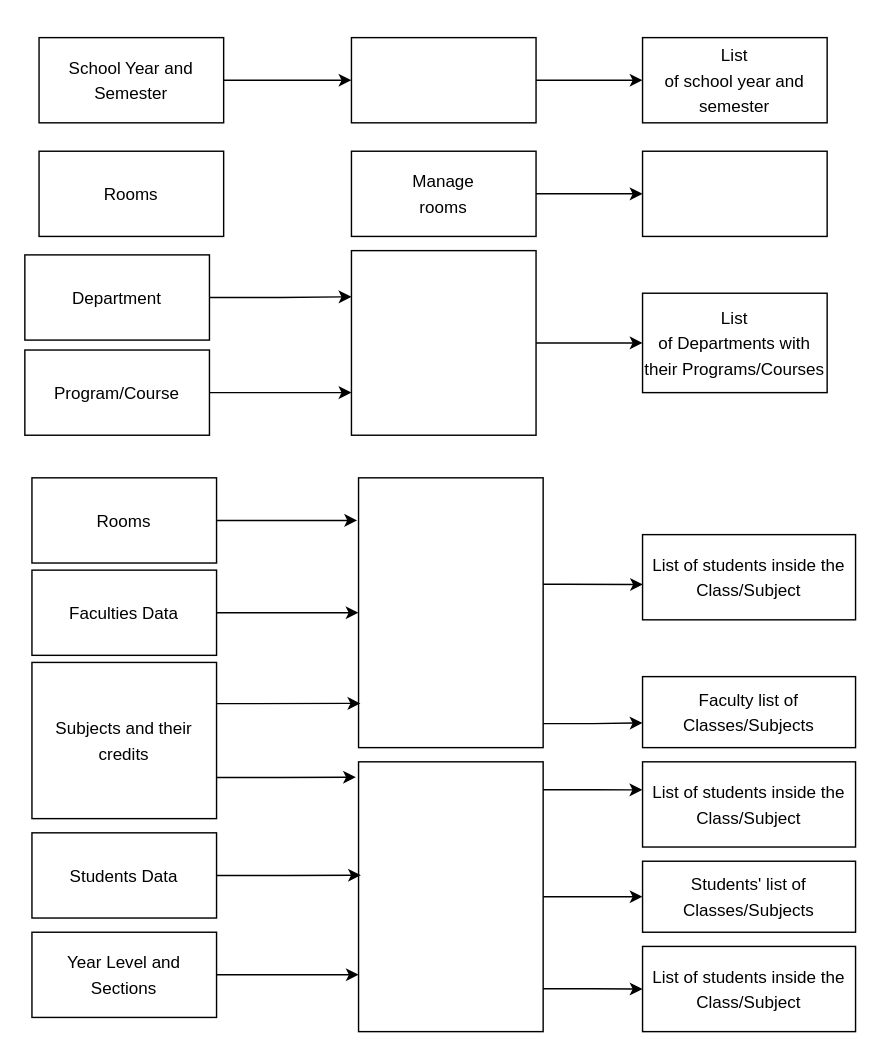
The diagram is 880 pixels wide and 1056 high, and some of its shapes have lost their labels. Here are the shapes that lost their labels. From the top down, the centre of each, then its label:
point (443, 79): Manage School Year and Semester
point (734, 193): List of Rooms
point (443, 342): Manange Academic Information
point (450, 612): Assign Faculty to a class/subject
point (450, 896): Evaluate Student and Enroll
